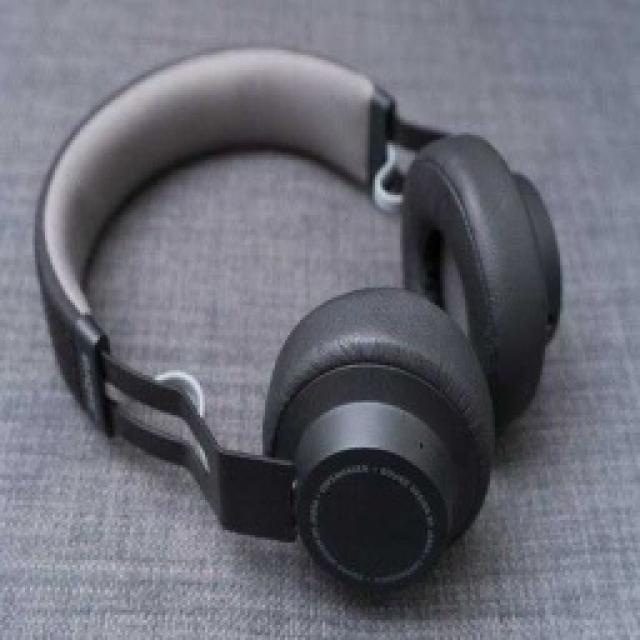headphones: (30, 43, 562, 595)
